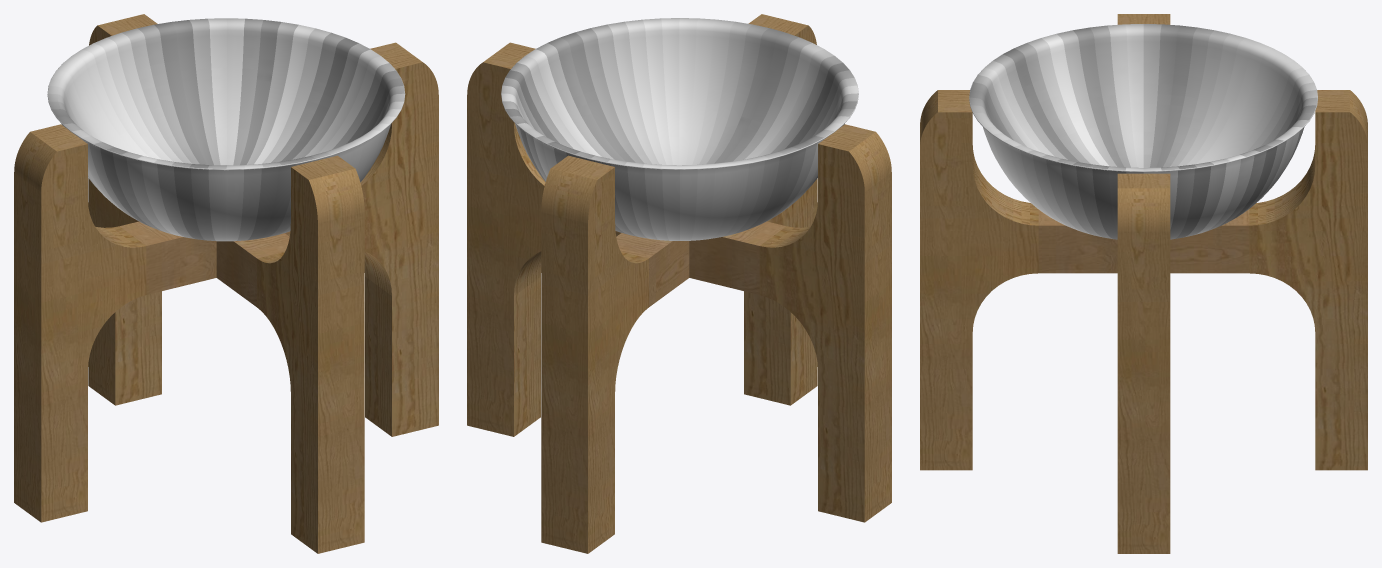
Rendered from comedero-grande-apamate.glb.
3 views of the same model, side by side, from view 1: azimuth 30°, elevation 25°; view 2: azimuth 150°, elevation 25°; view 3: azimuth 270°, elevation 25° (orthographic). The views are drawn at different scales.
Size of the model in its own units: 0.34 by 0.3029 by 0.34.
Materials: 4 (3 with a texture image).
